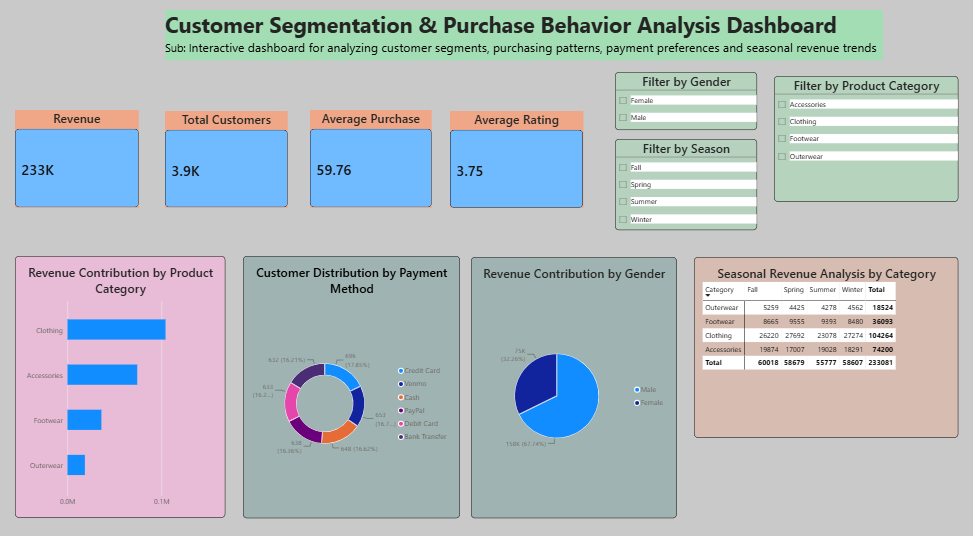

The dashboard page shown, as its layout file describes it:
{"tool":"powerbi","page":{"name":"Page 1","canvas":[1920,1080],"ordinal":0},"visuals":[{"type":"cardVisual","title":"Revenue","fields":{"Data":["shopping_table (2).Total Revenue"]},"box":[34.3,230.6,243.1,191.7],"z":0},{"type":"cardVisual","title":"Average Purchase","fields":{"Data":["shopping_table (2).Average Purchase"]},"box":[612,230.2,239.3,191.8],"z":1000},{"type":"cardVisual","title":"Average Rating","fields":{"Data":["shopping_table (2).Average Rating"]},"box":[886.8,232.2,261.8,190.1],"z":2000},{"type":"clusteredBarChart","title":"Revenue Contribution by Product Category","fields":{"Category":["shopping_table (2).Category"],"Y":["shopping_table (2).Total Revenue"]},"box":[34.3,517.4,413,514.3],"z":3000},{"type":"donutChart","title":"Customer Distribution by Payment Method","fields":{"Category":["shopping_table (2).Payment_Method"],"Y":["CountNonNull(shopping_table (2).Customer_ID)"]},"box":[480.5,517,425.7,515.2],"z":4000},{"type":"pivotTable","title":"Seasonal Revenue Analysis by Category","fields":{"Columns":["shopping_table (2).Season"],"Rows":["shopping_table (2).Category"],"Values":["Sum(shopping_table (2).Purchase_Amount_USD)"]},"box":[1366.8,519,519,355.3],"z":5000},{"type":"pieChart","title":"Revenue Contribution by Gender","fields":{"Category":["shopping_table (2).Gender"],"Y":["Sum(shopping_table (2).Purchase_Amount_USD)"]},"box":[928,518.8,403.7,513.3],"z":6000},{"type":"slicer","title":"Filter by Gender","fields":{"Values":["shopping_table (2).Gender"]},"box":[1212.5,155.8,279,113.8],"z":7000},{"type":"slicer","title":"Filter by Season","fields":{"Values":["shopping_table (2).Season"]},"box":[1212.5,286.8,279,179.2],"z":8000},{"type":"slicer","title":"Filter by Product Category","fields":{"Values":["shopping_table (2).Category"]},"box":[1523.6,162.6,361.7,246.6],"z":9000},{"type":"textbox","box":[327,32.9,1410.3,98.6],"z":10000},{"type":"cardVisual","title":"Total Customers","fields":{"Data":["Count(shopping_table (2).Customer_ID)"]},"box":[327,232,241.1,190],"z":10001}]}

Visuals, with their boxes in screenshot pixels (x1, y1, x2, y2), scaled from the page's 1920x1080 canvas onto the 973x536 screenshot:
"Revenue" cardVisual: {"left": 17, "top": 114, "right": 141, "bottom": 210}
"Average Purchase" cardVisual: {"left": 310, "top": 114, "right": 431, "bottom": 209}
"Average Rating" cardVisual: {"left": 449, "top": 115, "right": 582, "bottom": 210}
"Revenue Contribution by Product Category" clusteredBarChart: {"left": 17, "top": 257, "right": 227, "bottom": 512}
"Customer Distribution by Payment Method" donutChart: {"left": 244, "top": 257, "right": 459, "bottom": 512}
"Seasonal Revenue Analysis by Category" pivotTable: {"left": 693, "top": 258, "right": 956, "bottom": 434}
"Revenue Contribution by Gender" pieChart: {"left": 470, "top": 257, "right": 675, "bottom": 512}
"Filter by Gender" slicer: {"left": 614, "top": 77, "right": 756, "bottom": 134}
"Filter by Season" slicer: {"left": 614, "top": 142, "right": 756, "bottom": 231}
"Filter by Product Category" slicer: {"left": 772, "top": 81, "right": 955, "bottom": 203}
textbox: {"left": 166, "top": 16, "right": 880, "bottom": 65}
"Total Customers" cardVisual: {"left": 166, "top": 115, "right": 288, "bottom": 209}
